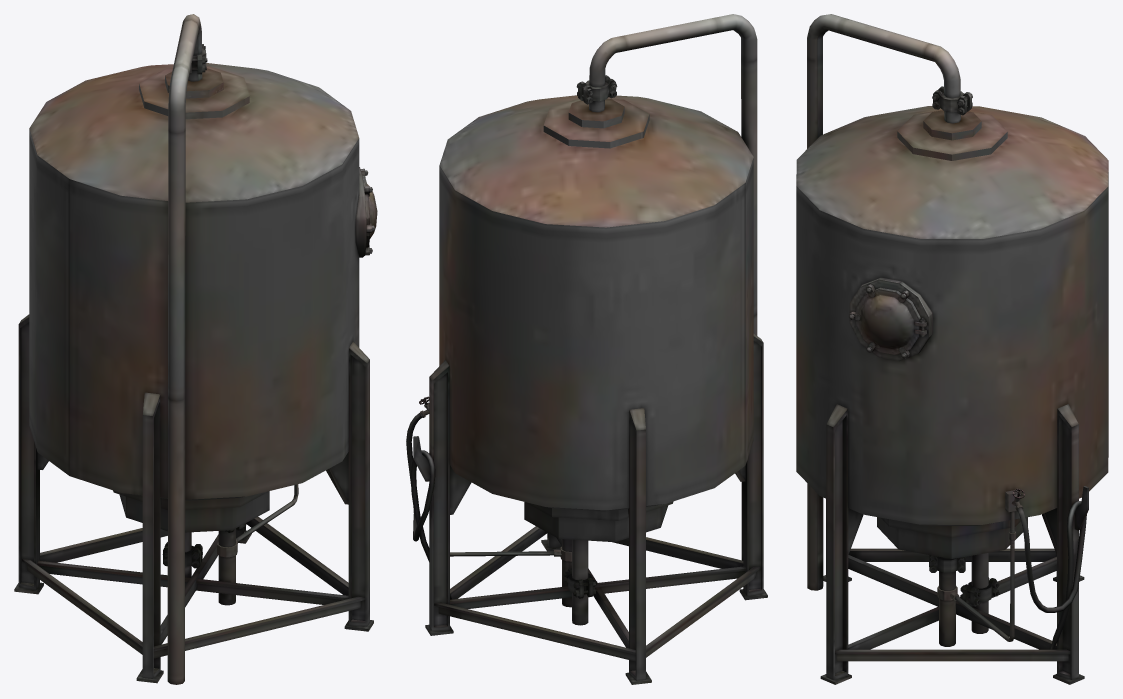
File: oiltank01.glb
3 views of the same model, side by side, from view 1: azimuth 30°, elevation 25°; view 2: azimuth 150°, elevation 25°; view 3: azimuth 270°, elevation 25° (orthographic). The views are drawn at different scales.
Parts seen in each view (by area): view 1: 0_oiltank01; view 2: 0_oiltank01; view 3: 0_oiltank01.
Part boxes in pixels (x1=…): 0_oiltank01: x1=14, y1=14, x2=377, y2=684; 0_oiltank01: x1=406, y1=14, x2=767, y2=684; 0_oiltank01: x1=796, y1=14, x2=1108, y2=684.
Size of the model in its own units: 2.87 by 5.46 by 2.67.
Materials: 1 (1 with a texture image).
